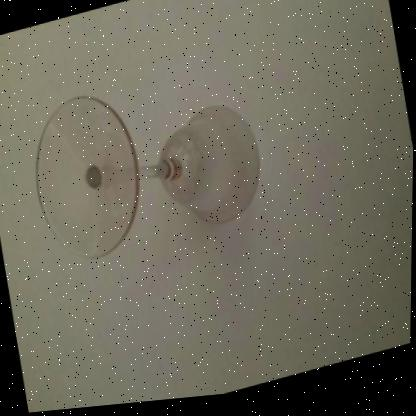Glass: (35, 96, 260, 259)
